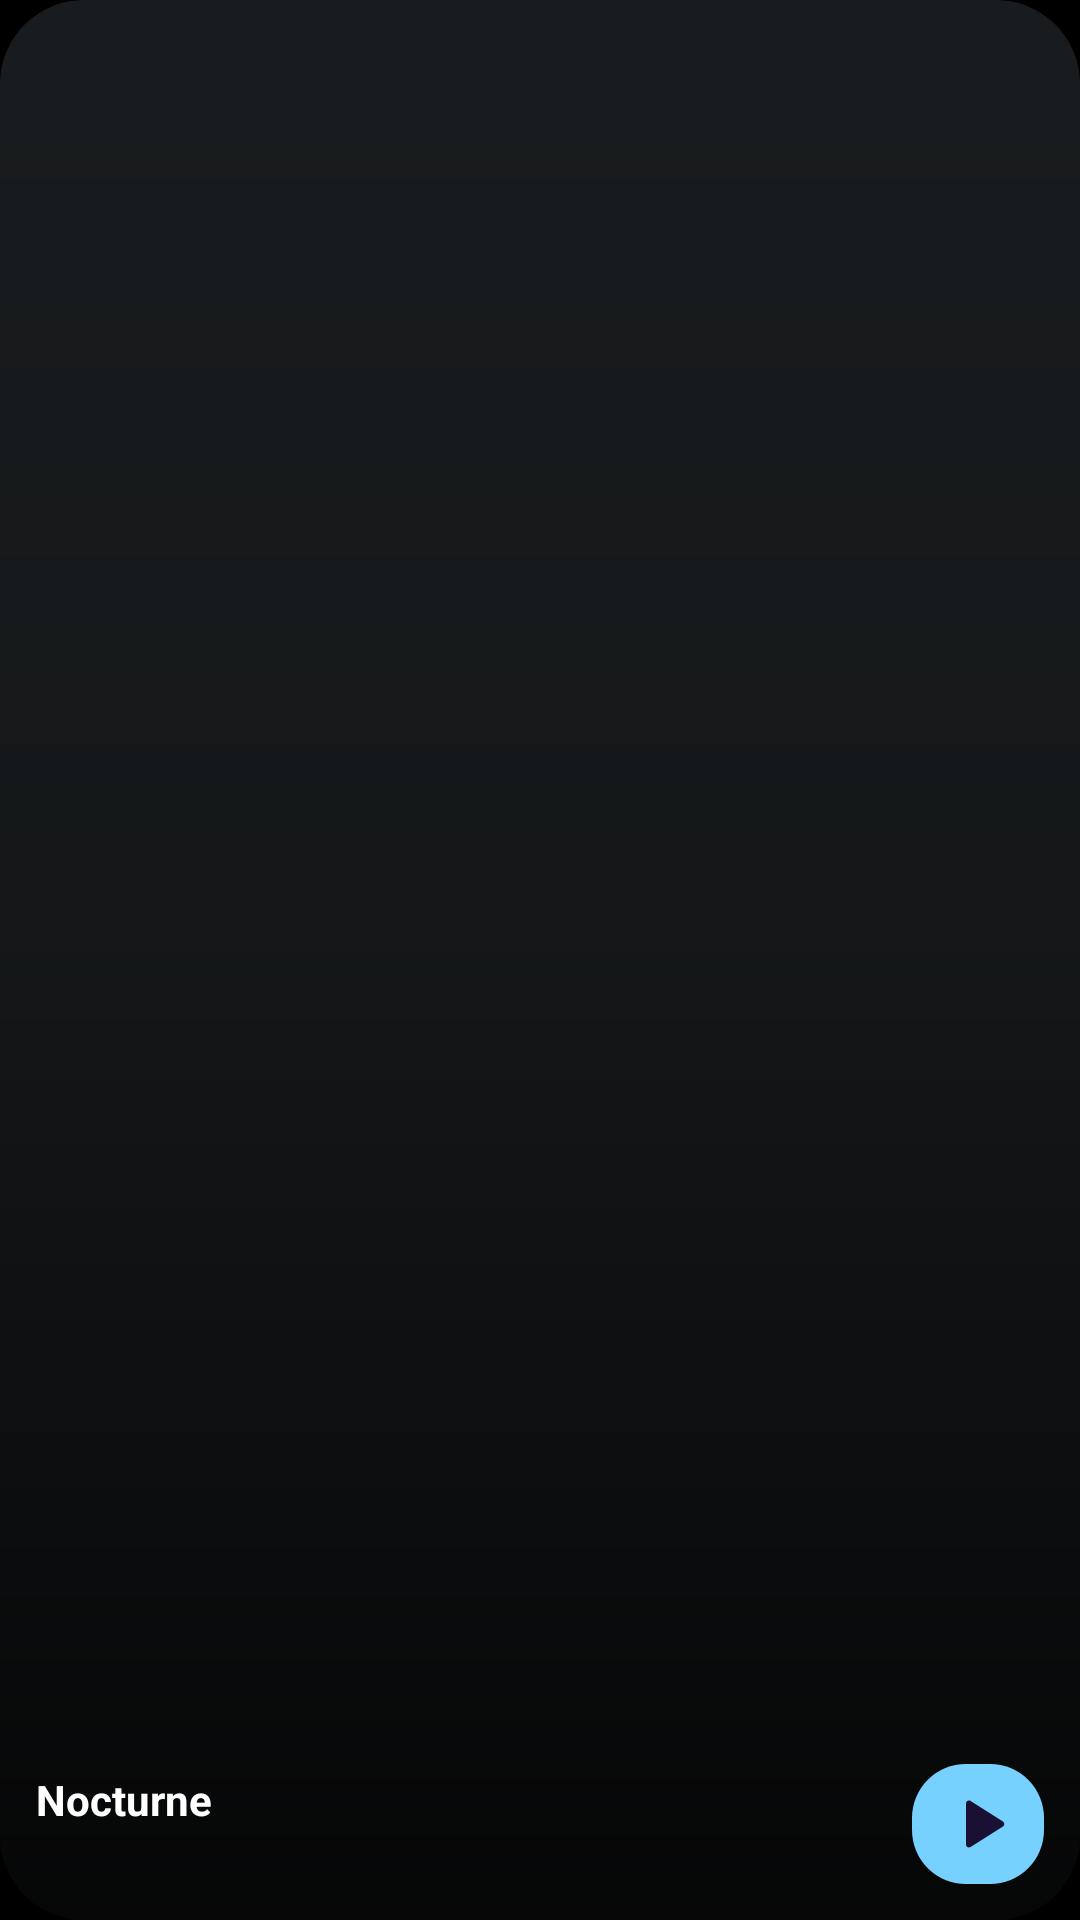

Icons on this 1080 x 1920 Android screen, each with its box as rect(x1, y1, x2, y2):
Play: rect(912, 1764, 1044, 1884)
